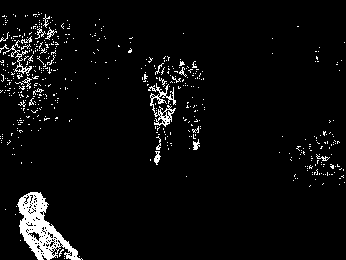person: (16, 190, 85, 260), (146, 71, 179, 164)
